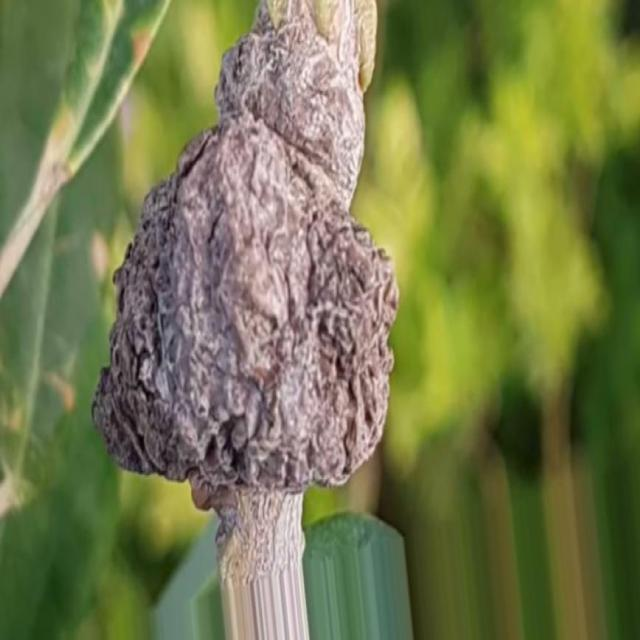Tuberculosis: (91, 16, 397, 536)
